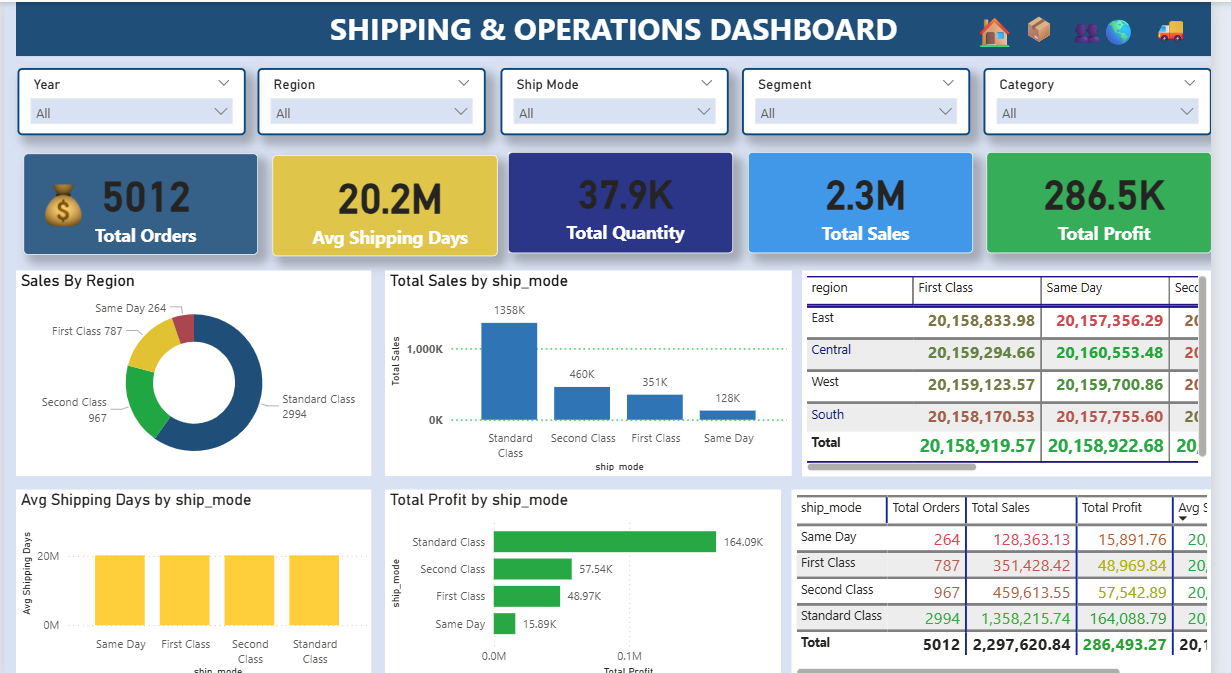

Layout of this report page (visuals, bound fields, positions):
{"tool":"powerbi","page":{"name":"SHIPPING & OPERATIONS ","canvas":[1280,720],"ordinal":4},"visuals":[{"type":"textbox","box":[12.7,0,1267.7,57.3],"z":0},{"type":"card","fields":{"Values":["Measures (2).Total Sales"]},"box":[789.4,159.1,238.8,107.1],"z":0,"group":"g4"},{"type":"card","fields":{"Values":["Measures (2).Total Quantity"]},"box":[534.8,159.2,238.8,107.1],"z":0,"group":"g3"},{"type":"card","fields":{"Values":["Measures (2).Total Profit"]},"box":[1041.6,159.7,238.8,107.1],"z":0,"group":"g5"},{"type":"card","fields":{"Values":["Measures (2).Total Orders"]},"box":[20.7,160.9,248.4,107.1],"z":0,"group":"g2"},{"type":"card","fields":{"Values":["Measures (2).Avg Shipping Days"]},"box":[285.1,161.7,238.8,107.1],"z":0,"group":"g6"},{"type":"slicer","fields":{"Values":["fact_sales.region"]},"box":[268.8,70,241.8,71.6],"z":1000},{"type":"image","box":[30.3,179.8,65,70.9],"z":1000,"group":"g2"},{"type":"slicer","fields":{"Values":["dim_date.year"]},"box":[14.3,70,241.8,71.6],"z":2000},{"type":"slicer","fields":{"Values":["dim_product.category"]},"box":[1038.7,70,241.8,71.6],"z":3000},{"type":"slicer","fields":{"Values":["dim_customer.segment"]},"box":[782.6,70,241.8,71.6],"z":4000},{"type":"slicer","fields":{"Values":["dim_ship_mode.ship_mode"]},"box":[526.5,70,241.8,71.6],"z":5000},{"type":"group","id":"g1","title":"Group 2","box":[20.7,159.1,1259.8,109.8],"z":6000},{"type":"group","id":"g2","title":"Group 1","box":[20.7,160.9,248.4,107.1],"z":6000,"group":"g1"},{"type":"group","id":"g3","title":"Group 1","box":[534.8,159.2,238.8,107.1],"z":7000,"group":"g1"},{"type":"donutChart","title":"Sales By Region","fields":{"Category":["fact_sales.ship_mode"],"Y":["Measures (2).Total Orders"]},"box":[12.7,284.7,377,217.9],"z":7000},{"type":"group","id":"g4","title":"Group 1","box":[789.4,159.1,238.8,107.1],"z":8000,"group":"g1"},{"type":"clusteredColumnChart","fields":{"Category":["fact_sales.ship_mode"],"Y":["Measures (2).Total Sales"]},"box":[404,284.7,431.1,217.9],"z":8000},{"type":"group","id":"g5","title":"Group 1","box":[1041.6,159.7,238.8,107.1],"z":9000,"group":"g1"},{"type":"lineStackedColumnComboChart","fields":{"Category":["dim_ship_mode.ship_mode"],"Y":["Measures (2).Avg Shipping Days"]},"box":[12.7,516.9,377,203.6],"z":9000},{"type":"pivotTable","title":"Sales Distribution By State","fields":{"Rows":["dim_location.region"],"Columns":["dim_ship_mode.ship_mode"],"Values":["Measures (2).Avg Shipping Days"]},"box":[846.2,284.7,434.2,217.9],"z":10000},{"type":"group","id":"g6","title":"Group 1","box":[285.1,161.7,238.8,107.1],"z":11000,"group":"g1"},{"type":"barChart","fields":{"Y":["Measures (2).Total Profit"],"Category":["dim_ship_mode.ship_mode"]},"box":[404,516.9,419.9,203.6],"z":11000},{"type":"pivotTable","fields":{"Rows":["dim_ship_mode.ship_mode"],"Values":["Measures (2).Total Orders","Measures (2).Total Sales","Measures (2).Total Profit","Measures (2).Avg Shipping Days"]},"box":[835.1,516.9,445.4,203.6],"z":12000},{"type":"actionButton","box":[1024.4,4.8,50.9,47.7],"z":12001,"group":"g7"},{"type":"actionButton","box":[1075.3,3.2,50.9,47.7],"z":12002,"group":"g7"},{"type":"actionButton","box":[1126.2,6.4,52.5,44.5],"z":12003,"group":"g7"},{"type":"actionButton","box":[1159.6,6.4,49.3,49.3],"z":12004,"group":"g7"},{"type":"actionButton","box":[1215.3,3.2,65.2,47.7],"z":12005,"group":"g7"},{"type":"group","id":"g7","title":"Group 3","box":[1024.4,3.2,256.1,52.5],"z":12006}]}

Visuals, with their boxes in screenshot pixels (x1, y1, x2, y2), scaled from the page's 1280x720 canvas onto the 1231x673 screenshot:
textbox: [x1=12, y1=0, x2=1230, y2=54]
card - Measures (2).Total Sales: [x1=759, y1=149, x2=989, y2=249]
card - Measures (2).Total Quantity: [x1=514, y1=149, x2=744, y2=249]
card - Measures (2).Total Profit: [x1=1002, y1=149, x2=1230, y2=249]
card - Measures (2).Total Orders: [x1=20, y1=150, x2=259, y2=251]
card - Measures (2).Avg Shipping Days: [x1=274, y1=151, x2=504, y2=251]
slicer - fact_sales.region: [x1=259, y1=65, x2=491, y2=132]
image: [x1=29, y1=168, x2=92, y2=234]
slicer - dim_date.year: [x1=14, y1=65, x2=246, y2=132]
slicer - dim_product.category: [x1=999, y1=65, x2=1230, y2=132]
slicer - dim_customer.segment: [x1=753, y1=65, x2=985, y2=132]
slicer - dim_ship_mode.ship_mode: [x1=506, y1=65, x2=739, y2=132]
"Group 2" group: [x1=20, y1=149, x2=1230, y2=251]
"Group 1" group: [x1=20, y1=150, x2=259, y2=251]
"Group 1" group: [x1=514, y1=149, x2=744, y2=249]
"Sales By Region" donutChart: [x1=12, y1=266, x2=375, y2=470]
"Group 1" group: [x1=759, y1=149, x2=989, y2=249]
clusteredColumnChart - fact_sales.ship_mode x Measures (2).Total Sales: [x1=389, y1=266, x2=803, y2=470]
"Group 1" group: [x1=1002, y1=149, x2=1230, y2=249]
lineStackedColumnComboChart - dim_ship_mode.ship_mode x Measures (2).Avg Shipping Days: [x1=12, y1=483, x2=375, y2=672]
"Sales Distribution By State" pivotTable: [x1=814, y1=266, x2=1230, y2=470]
"Group 1" group: [x1=274, y1=151, x2=504, y2=251]
barChart - Measures (2).Total Profit x dim_ship_mode.ship_mode: [x1=389, y1=483, x2=792, y2=672]
pivotTable - dim_ship_mode.ship_mode x Measures (2).Total Orders: [x1=803, y1=483, x2=1230, y2=672]
actionButton: [x1=985, y1=4, x2=1034, y2=49]
actionButton: [x1=1034, y1=3, x2=1083, y2=48]
actionButton: [x1=1083, y1=6, x2=1134, y2=48]
actionButton: [x1=1115, y1=6, x2=1163, y2=52]
actionButton: [x1=1169, y1=3, x2=1230, y2=48]
"Group 3" group: [x1=985, y1=3, x2=1230, y2=52]
